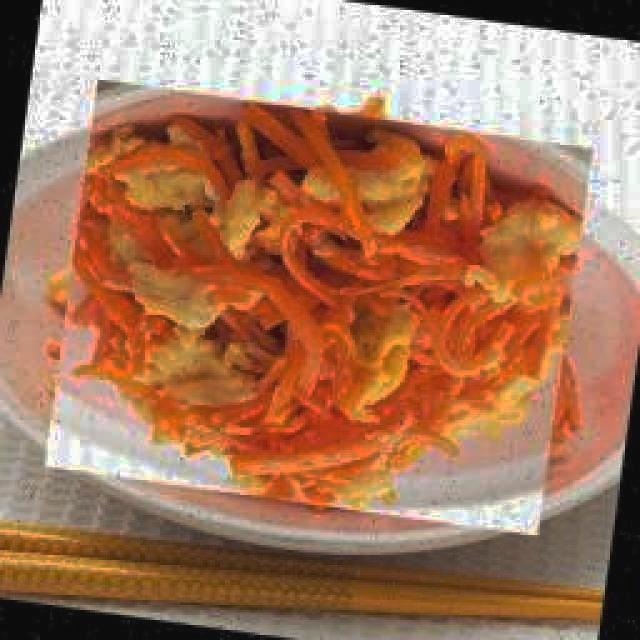carrot_eggs: (66, 95, 583, 511)
